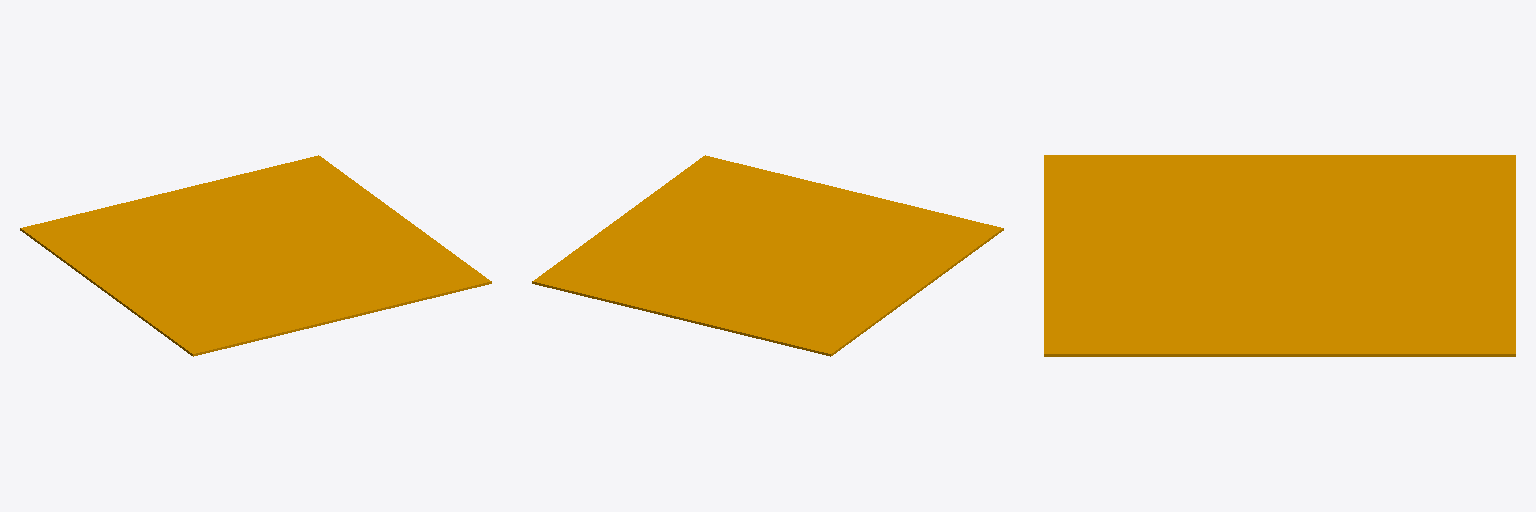
robot.urdf — maze:
<?xml version="1.0"?>
<robot name="maze">
  <link name="maze_link">
    <visual>
      <origin xyz="0 0 0" rpy="0 0 0"/>
      <geometry>
        <mesh filename="platform.stl" scale="1.5 1.5 .5"/>
      </geometry>
    </visual>
    <collision>
      <origin xyz="0 0 0" rpy="0 0 0"/>
      <geometry>
        <mesh filename="platform.stl" scale="1.5 1.5 .5"/>
      </geometry>
    </collision>
    <inertial>
      <mass value="0.0"/> <!-- static -->
      <inertia ixx="0" ixy="0" ixz="0" iyy="0" iyz="0" izz="0"/>
      <origin xyz="0 0 0" rpy="0 0 0"/>
    </inertial>
  </link>
</robot>

--- What the picture shows (computed from the rendered views, not written in the file) ---
The picture shows the robot from 3 angles, left to right: view 1: azimuth 30°, elevation 25°; view 2: azimuth 150°, elevation 25°; view 3: azimuth 270°, elevation 25°; orthographic projection.
Model maze with 1 links and 0 joints (none), rooted at maze_link, posed every joint at zero.
Links seen in each view (by area): view 1: maze_link; view 2: maze_link; view 3: maze_link.
Link boxes in pixels (<box>): maze_link: <box>20,155,491,356</box>; maze_link: <box>532,155,1003,356</box>; maze_link: <box>1044,155,1515,356</box>.
Size in the robot's own frame: 2.1 by 2.1 by 0.016 metres.
Meshes: 1 distinct files referenced, 1 mesh visuals loaded (1 binary STL).